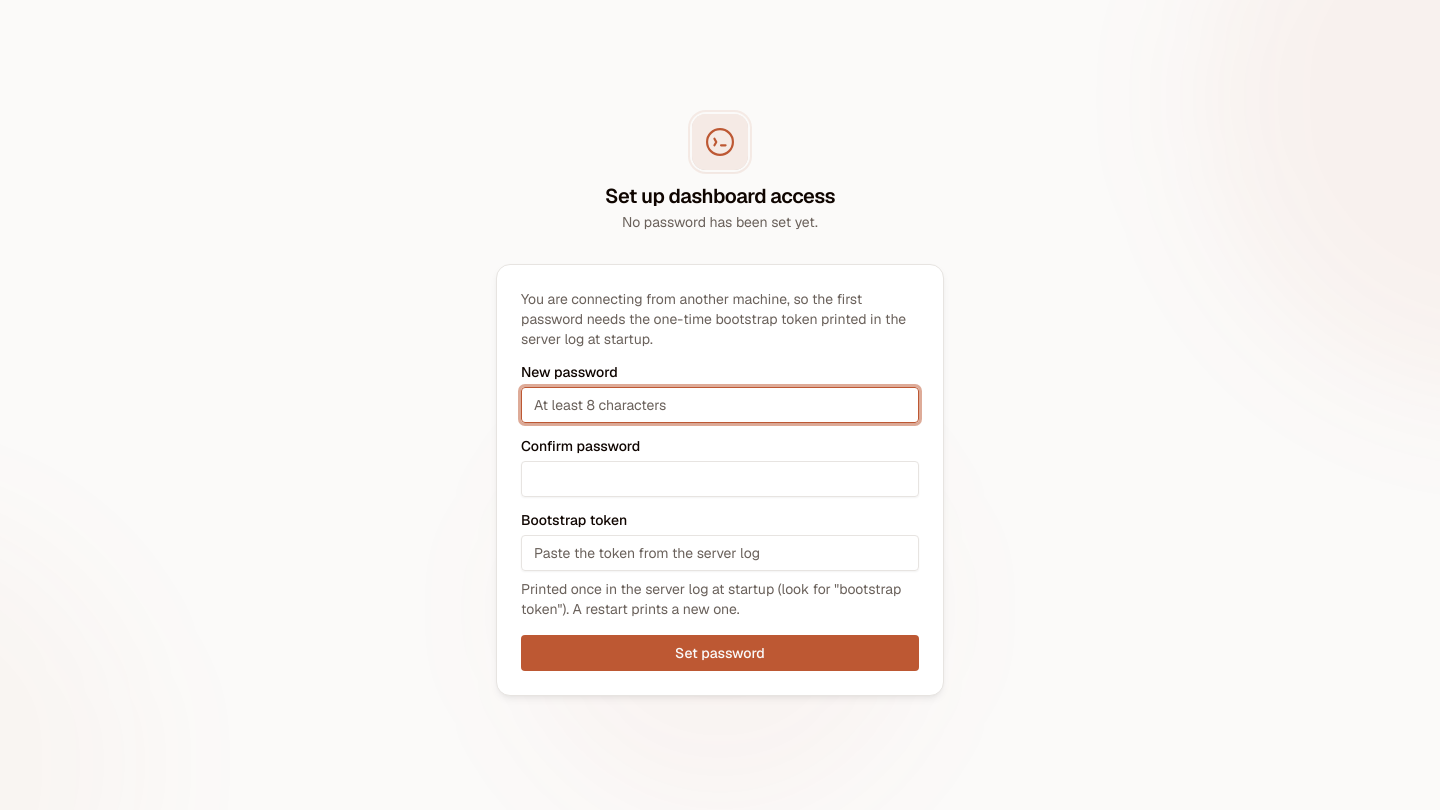
auth flow integration › sets the first password remotely with the bootstrap token
The image size is (1440, 810).
In the password field labelled "New password": (720, 405) [521,387,919,423], type "long-enough-pw"
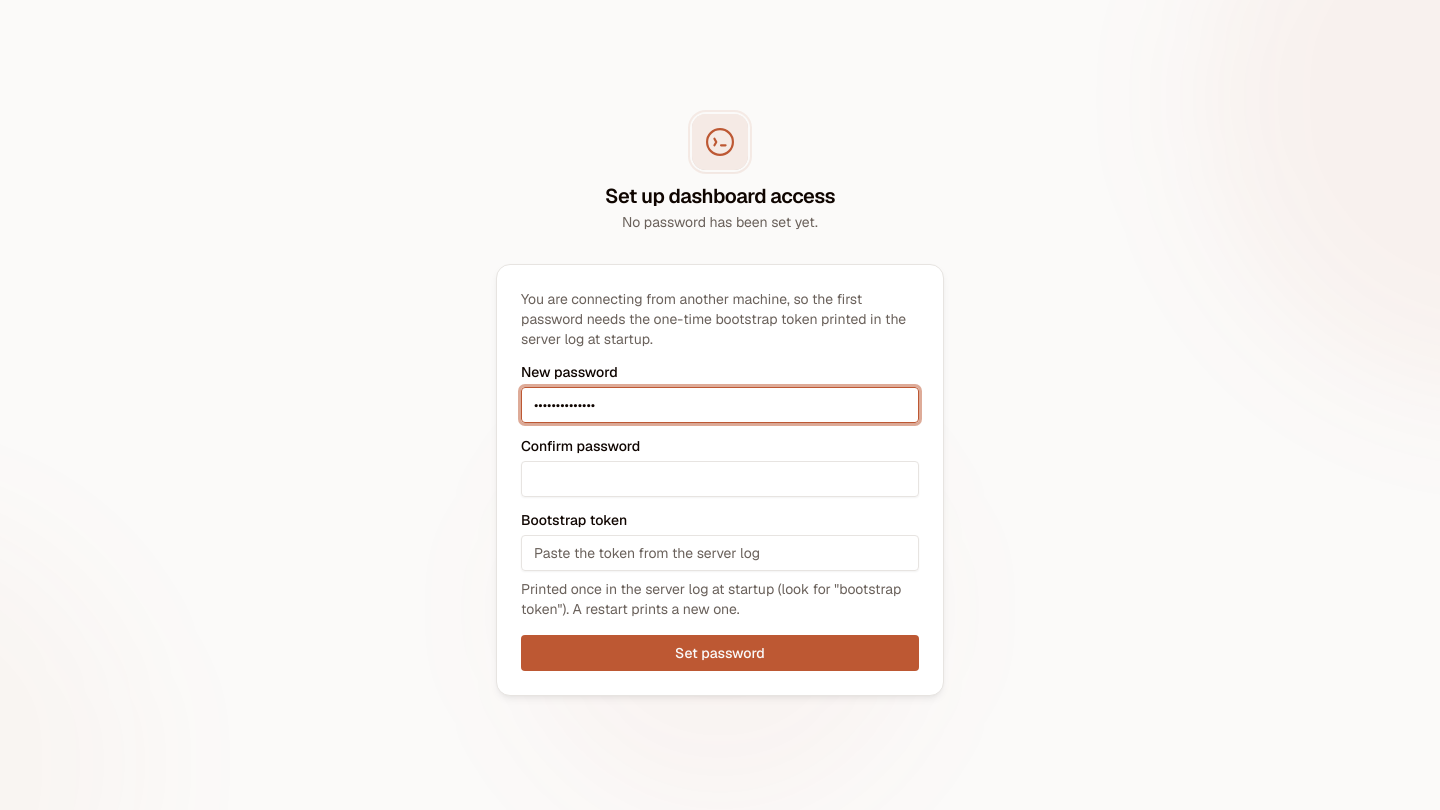
In the password field labelled "Confirm password": (720, 479) [521,461,919,497], type "long-enough-pw"
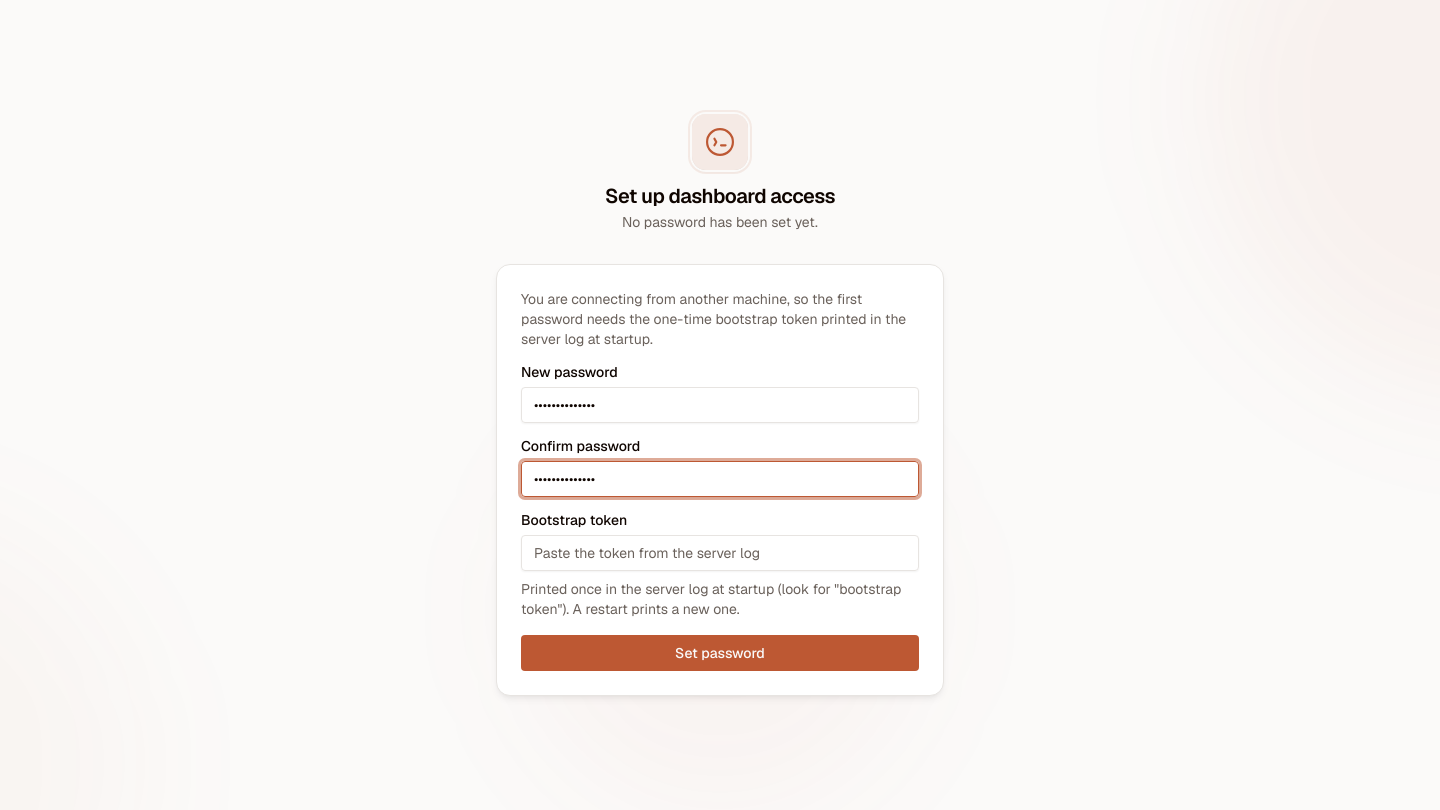
Click the button "Set password": (720, 653) [521,635,919,671]
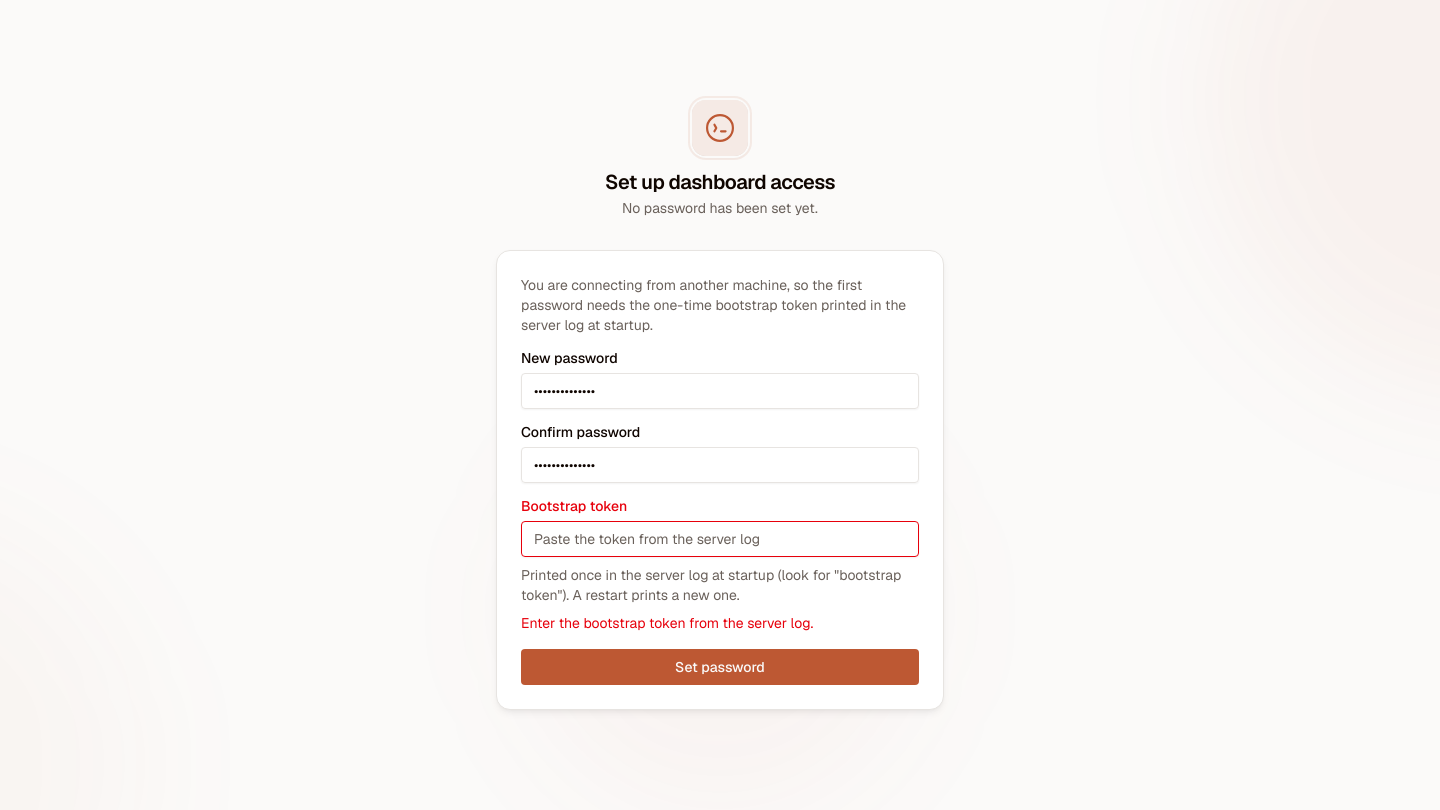
Check: the text "Enter the bootstrap token from the server log." is shown, box [521,614,813,632]
In the password field labelled "Bootstrap token": (720, 539) [521,521,919,557], type "bootstrap-token-from-log"
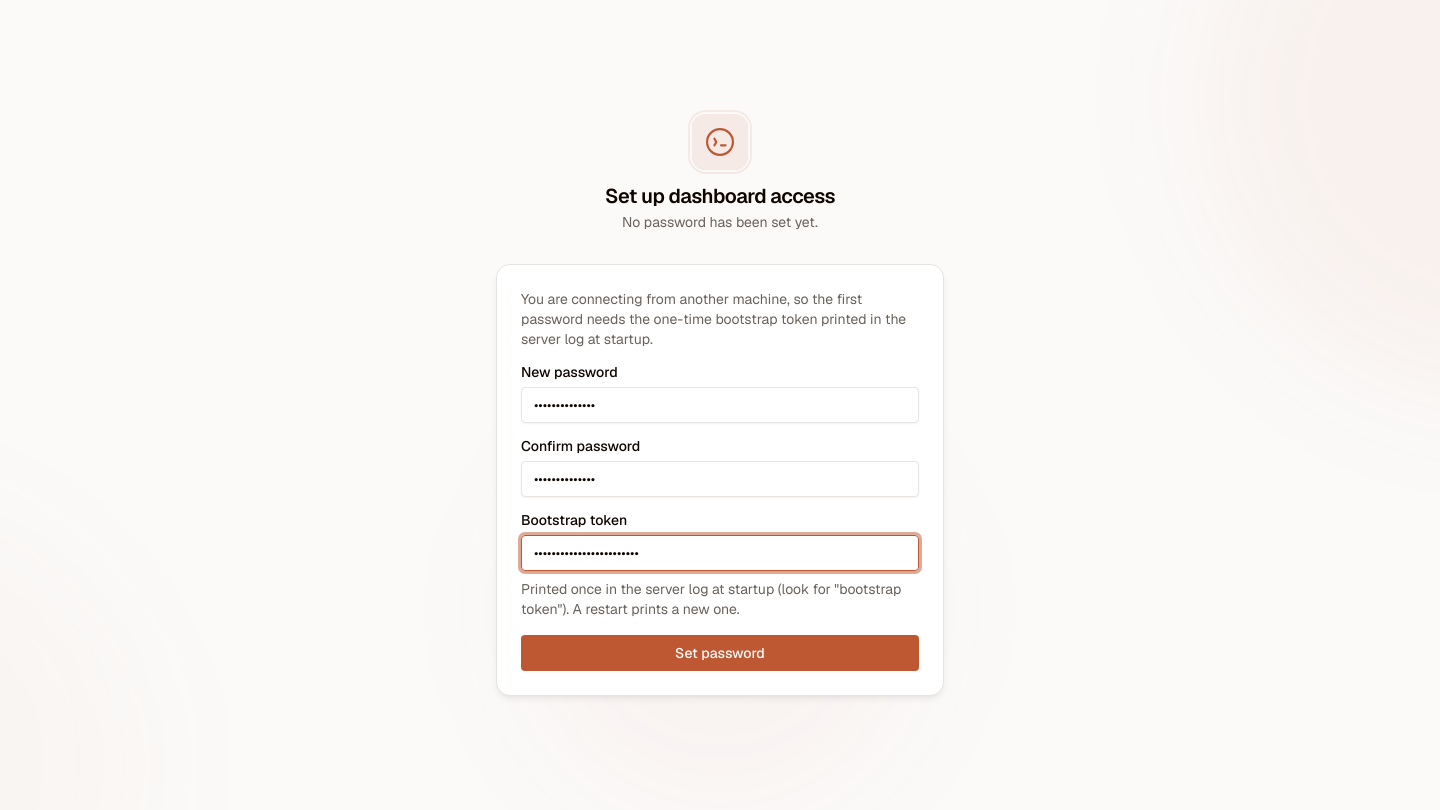
Click the button "Set password": (720, 653) [521,635,919,671]
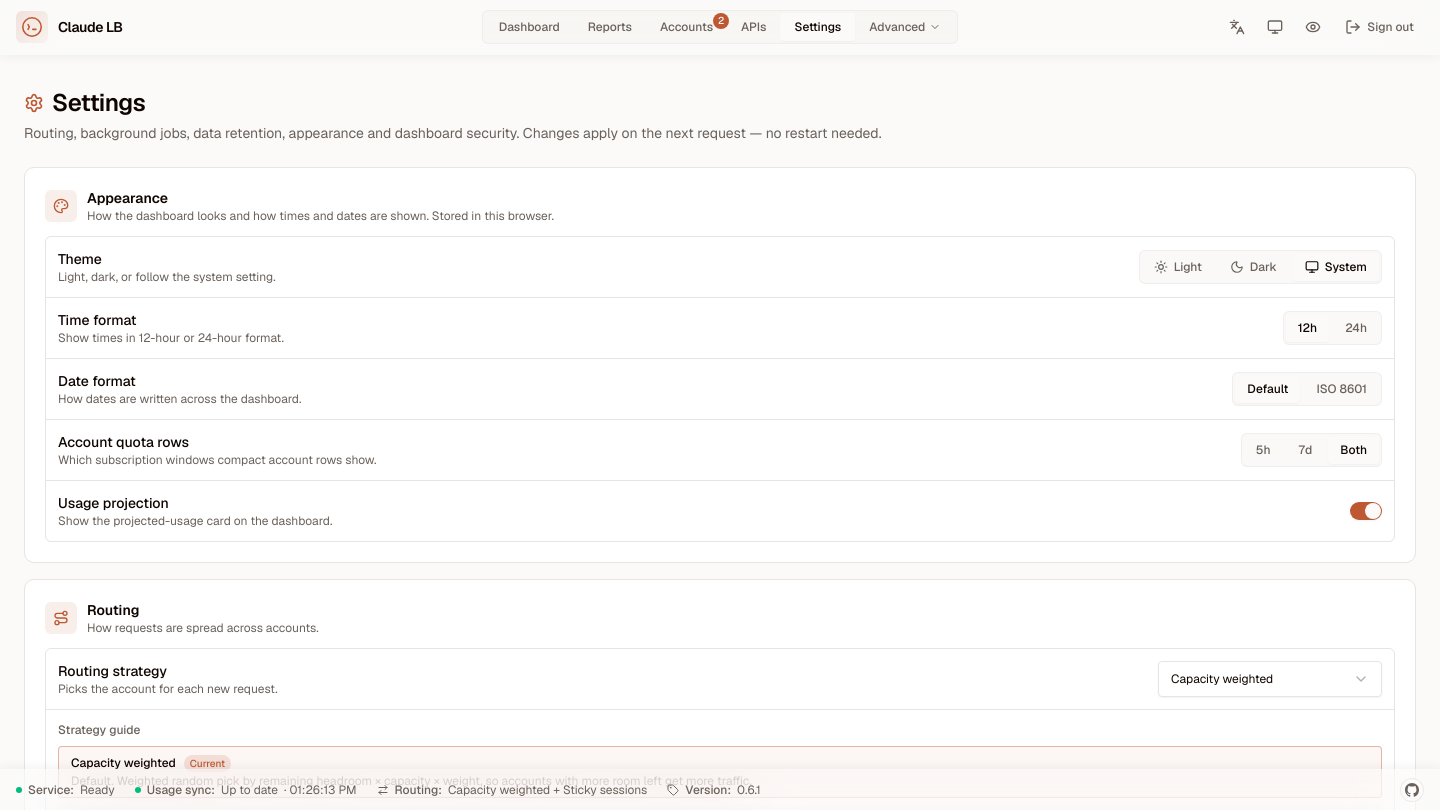
Check: the heading "Settings" is shown, box [24,87,145,118]
